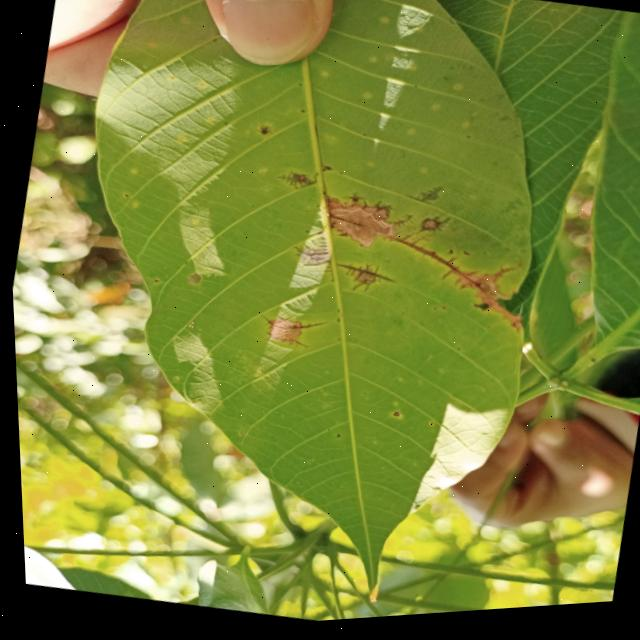Colletotrichum: (389, 417, 396, 422), (152, 281, 156, 286)
Corynespora: (380, 234, 482, 299), (329, 260, 397, 305), (275, 170, 317, 197), (415, 218, 449, 244), (290, 249, 327, 272), (414, 188, 442, 213), (294, 320, 326, 338), (389, 217, 412, 236), (284, 341, 306, 354), (257, 318, 273, 331)
Leaf-Blight: (448, 275, 527, 341), (317, 200, 396, 260), (266, 321, 300, 348)
